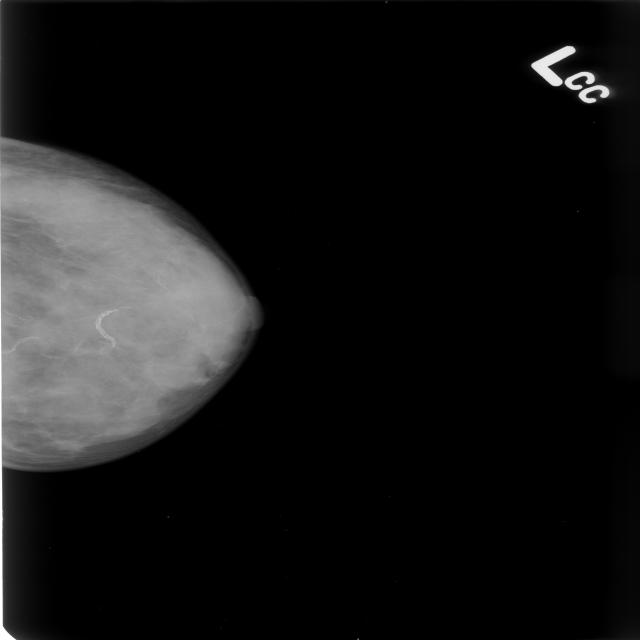normal: (0, 111, 269, 491)
